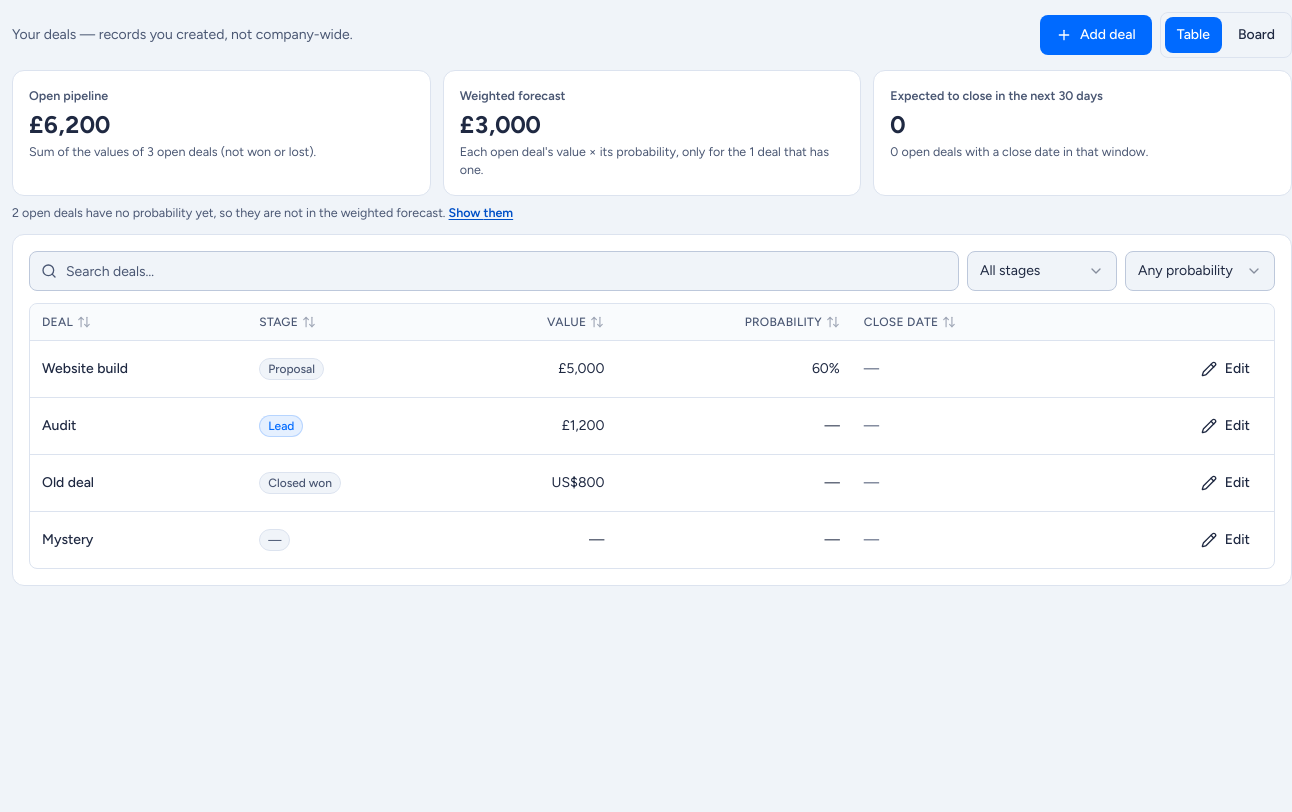
it: DealsView board › moves a deal with the existing update handler, sending only the stage
Click the button "Board" at (1256, 35), box [1226,17,1287,53]
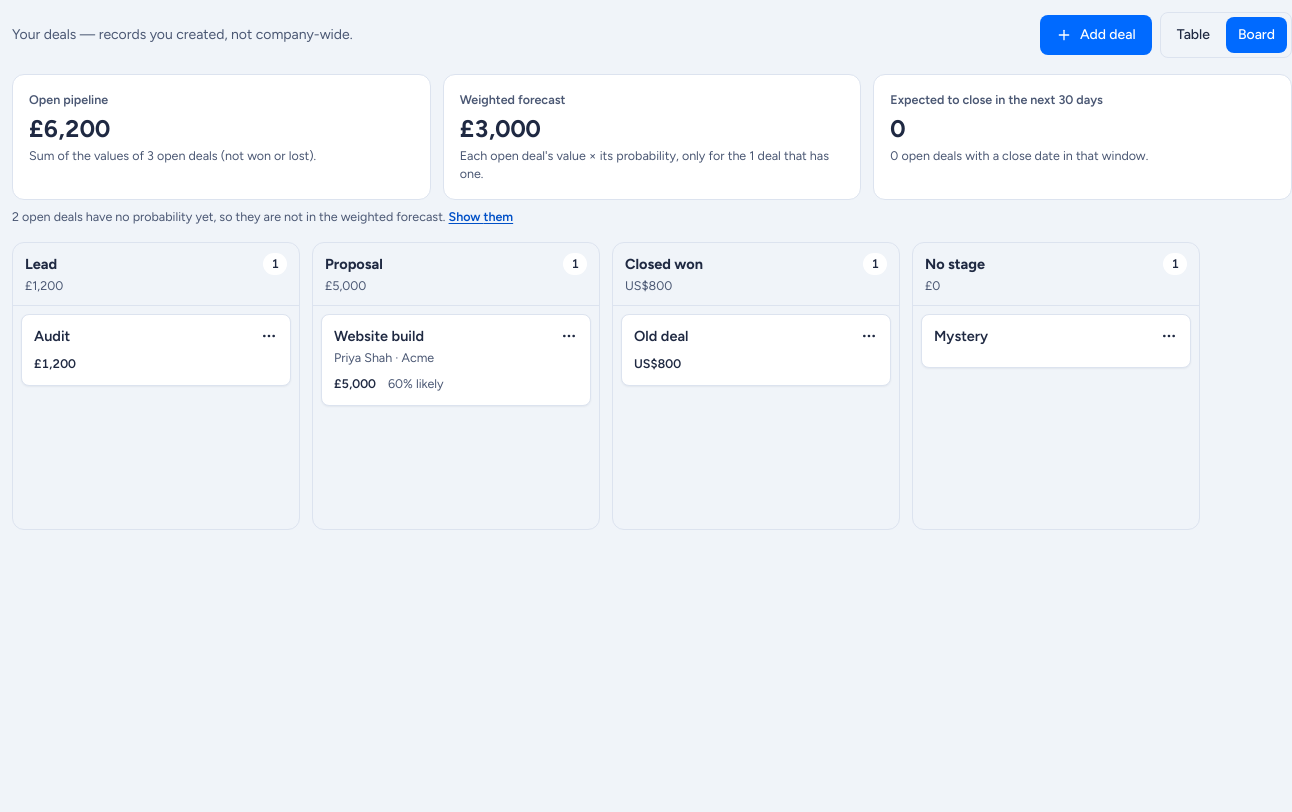
Press the mouse on the button named "Actions for Audit" at (269, 336), box [253,320,285,352]
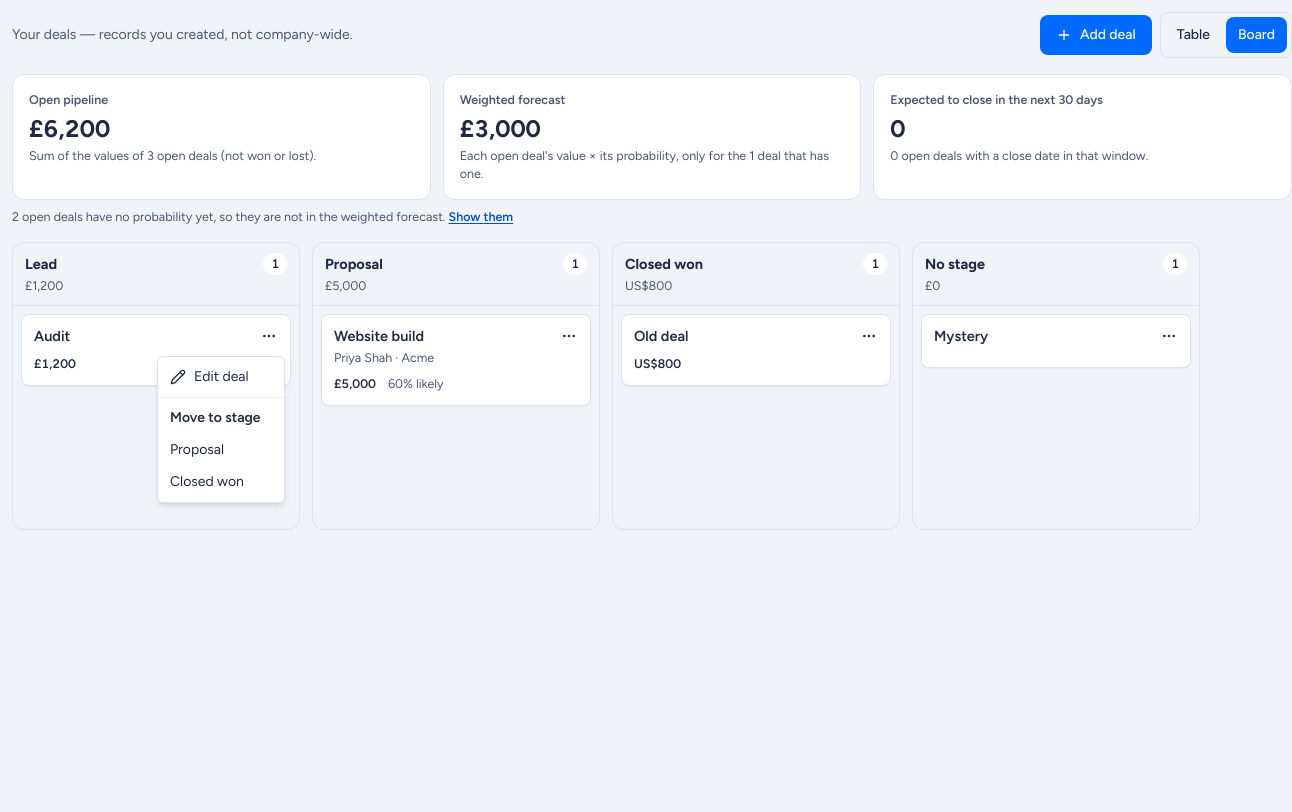
Click the menu item "Proposal" at (197, 450), box [170,441,224,458]
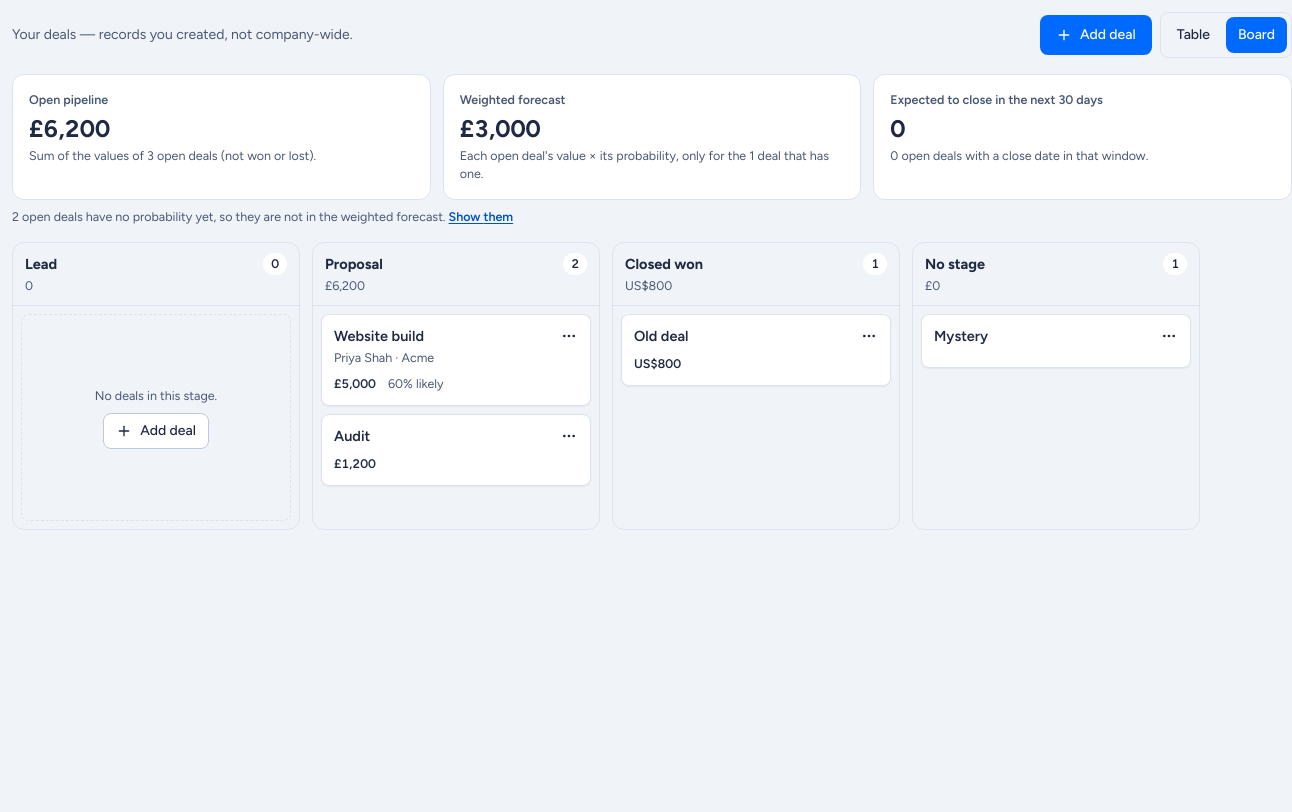
Expected: the text "Audit" is shown, [334,427,370,445]
Now the text "No deals in this stage." is shown, box [95,386,217,404]
Now the button "Add deal" below "No deals in this stage." is shown, box [103,412,209,448]
